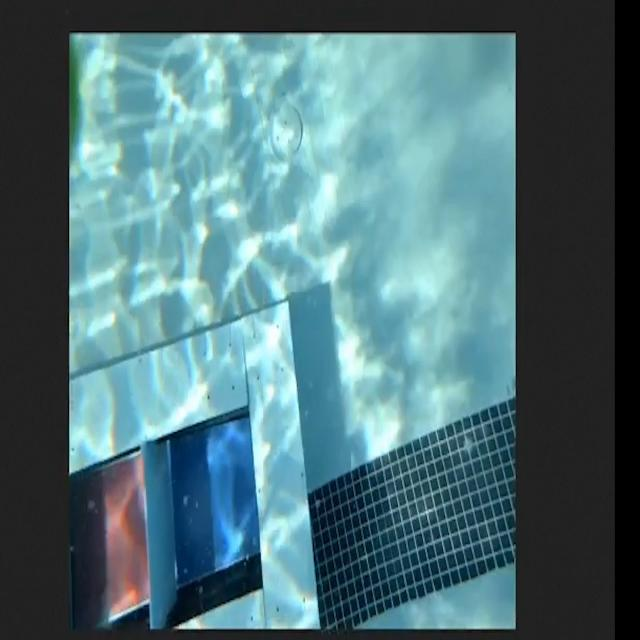Bin: (68, 298, 321, 636)
